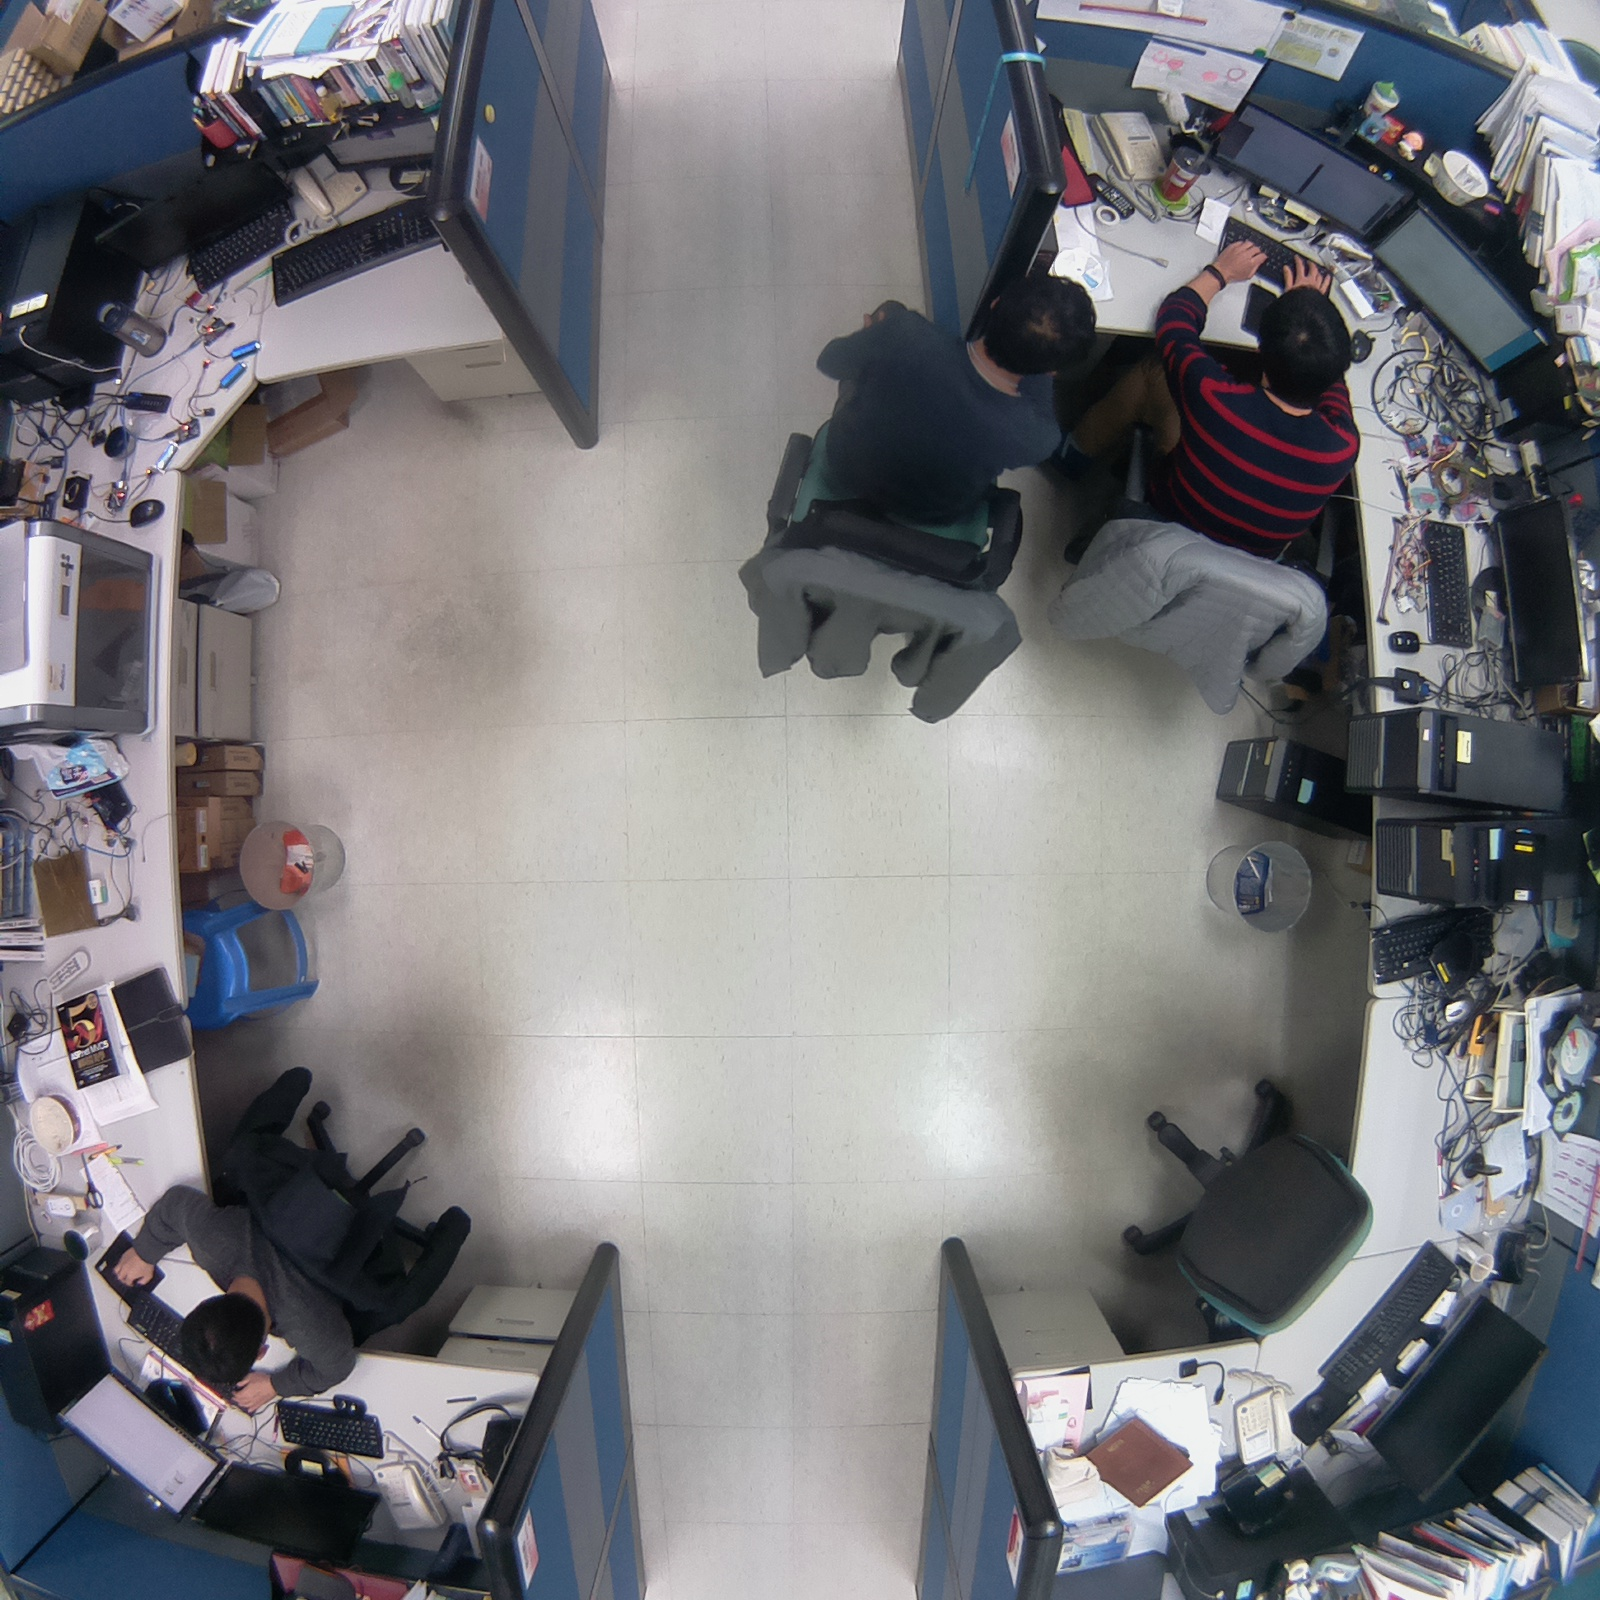chair: (1109, 1055, 1378, 1368)
head: (987, 265, 1104, 385), (1251, 278, 1363, 400), (174, 1289, 276, 1389)
sitting: (722, 240, 1107, 740), (1040, 232, 1368, 724), (93, 1055, 481, 1421)
